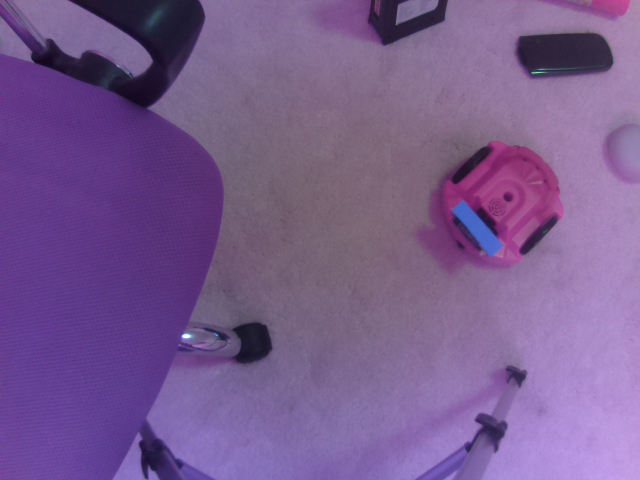board: (444, 198, 502, 263)
chassis: (433, 133, 581, 275)
